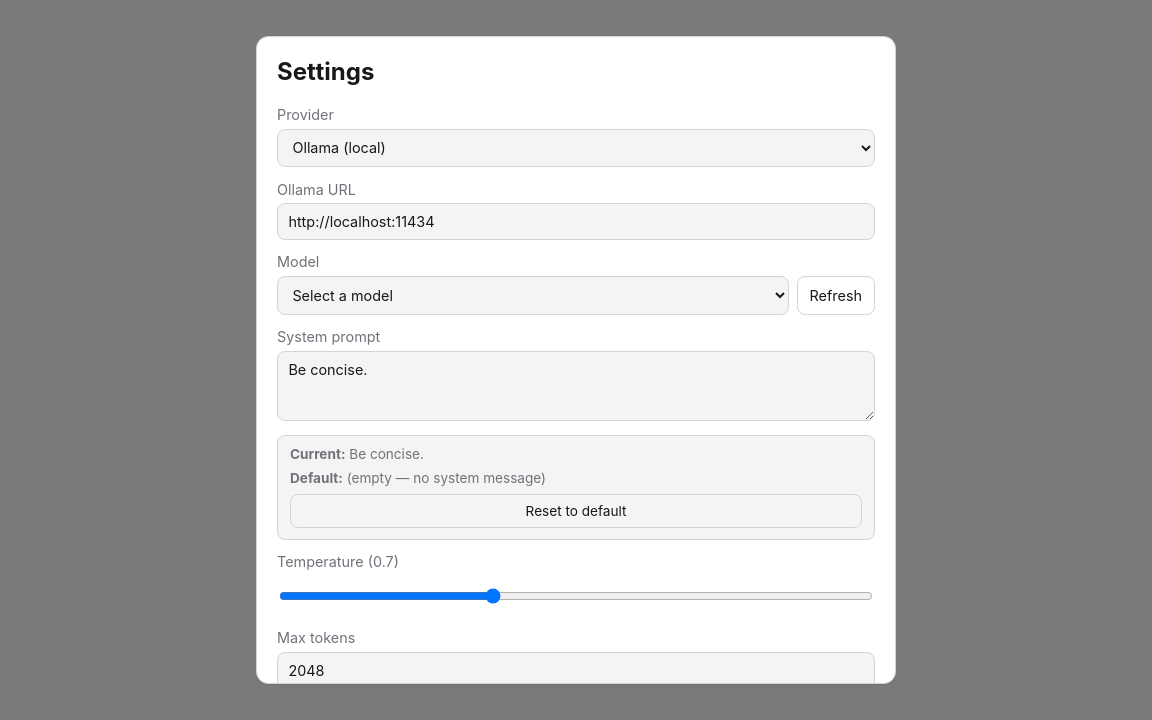
Test: SettingsModal › shows current and default system prompt values
The width and height of the screenshot is (1152, 720).
expect the element with test id "system-prompt-preview" is shown: met, box [277,435,875,540]
expect the element with test id "system-prompt-preview" shows "Current:": met, box [290,446,345,462]
Click the button "Reset to default" at (576, 511), box [290,494,862,528]
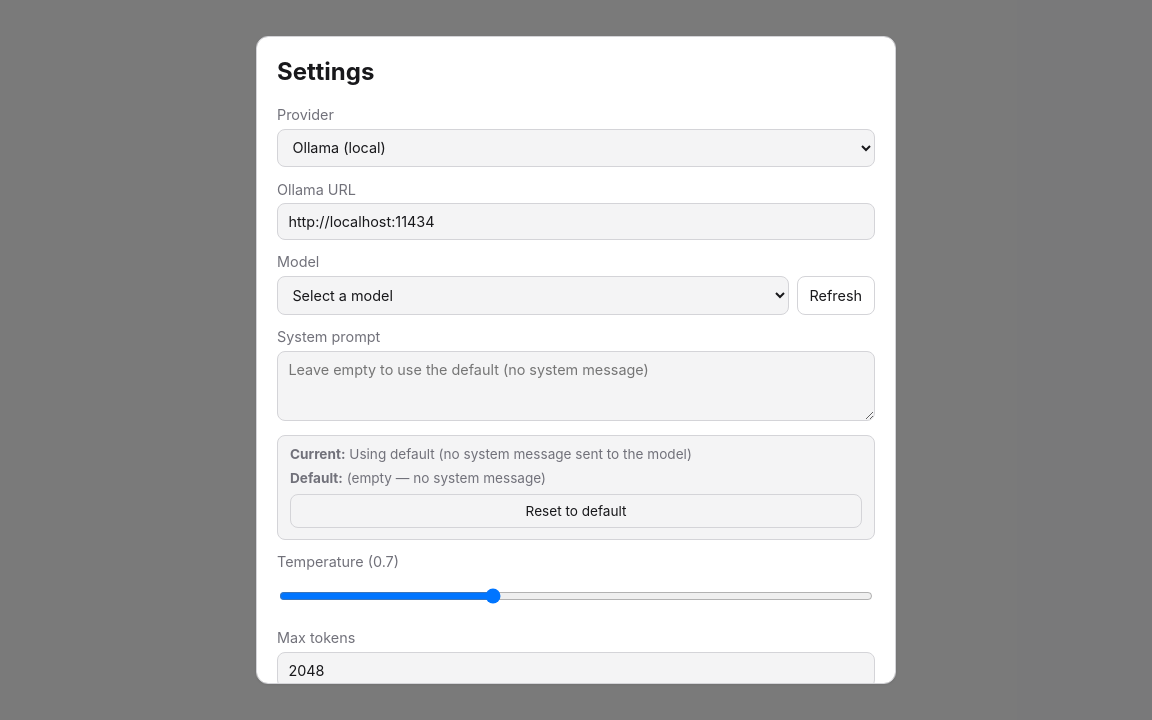
expect the element with test id "system-prompt-preview" shows "Using default (no system message sent to the model)": met, box [345,446,692,462]
